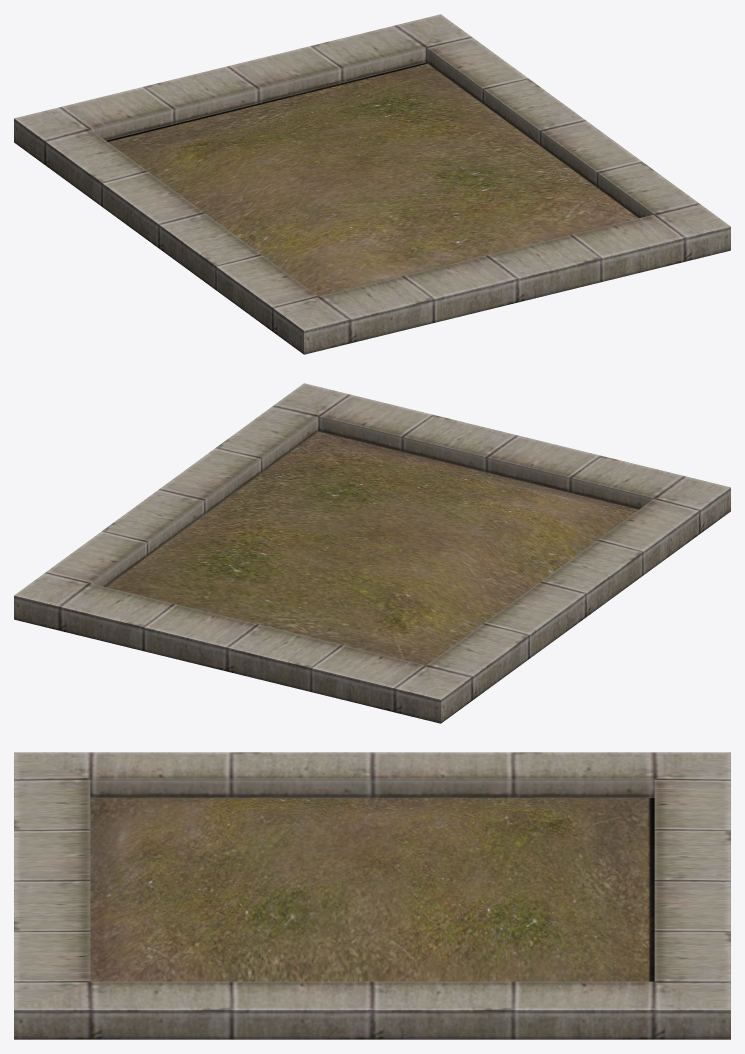
The model's file is garosu.FBX.
3 renders of one model, top to bottom at view 1: azimuth 30°, elevation 25°; view 2: azimuth 150°, elevation 25°; view 3: azimuth 270°, elevation 25°, orthographic. The views are drawn at different scales.
Visible parts, largest first — view 1: Box001; view 2: Box001; view 3: Box001.
Part boxes in pixels (x1,y1,x2,y2): Box001: (14, 14, 730, 354); Box001: (14, 383, 730, 723); Box001: (14, 752, 730, 1039).
Size of the model in its own units: 50.35 by 3.97 by 59.26.
Materials: 1 (1 with a texture image).
